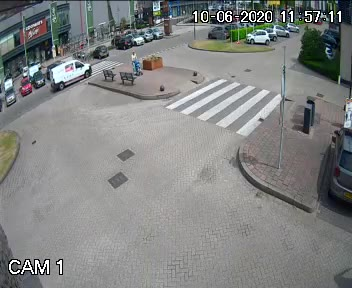car: (41, 53, 96, 94)
